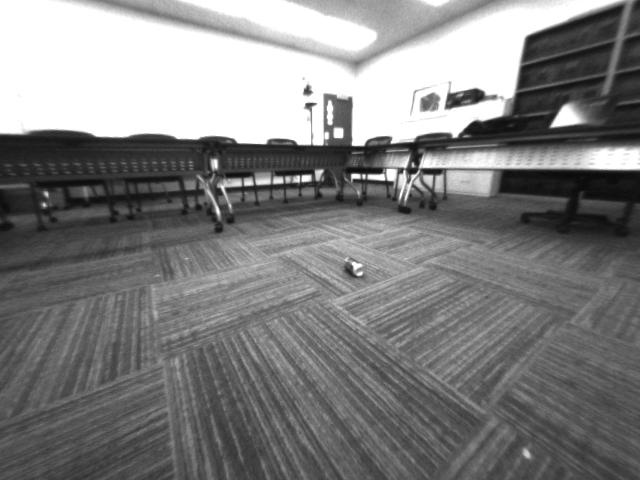can: (340, 253, 371, 280)
